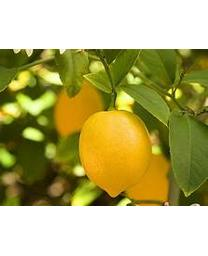lemon: (82, 110, 152, 196)
